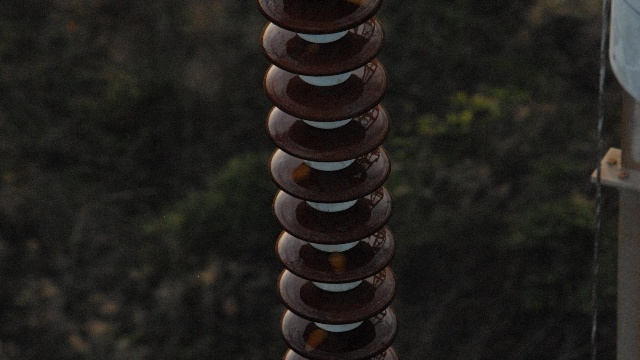insulator_unspecified: (257, 1, 398, 359)
pollution_flashover_local: (301, 325, 326, 356), (332, 251, 351, 277), (288, 160, 311, 179)
